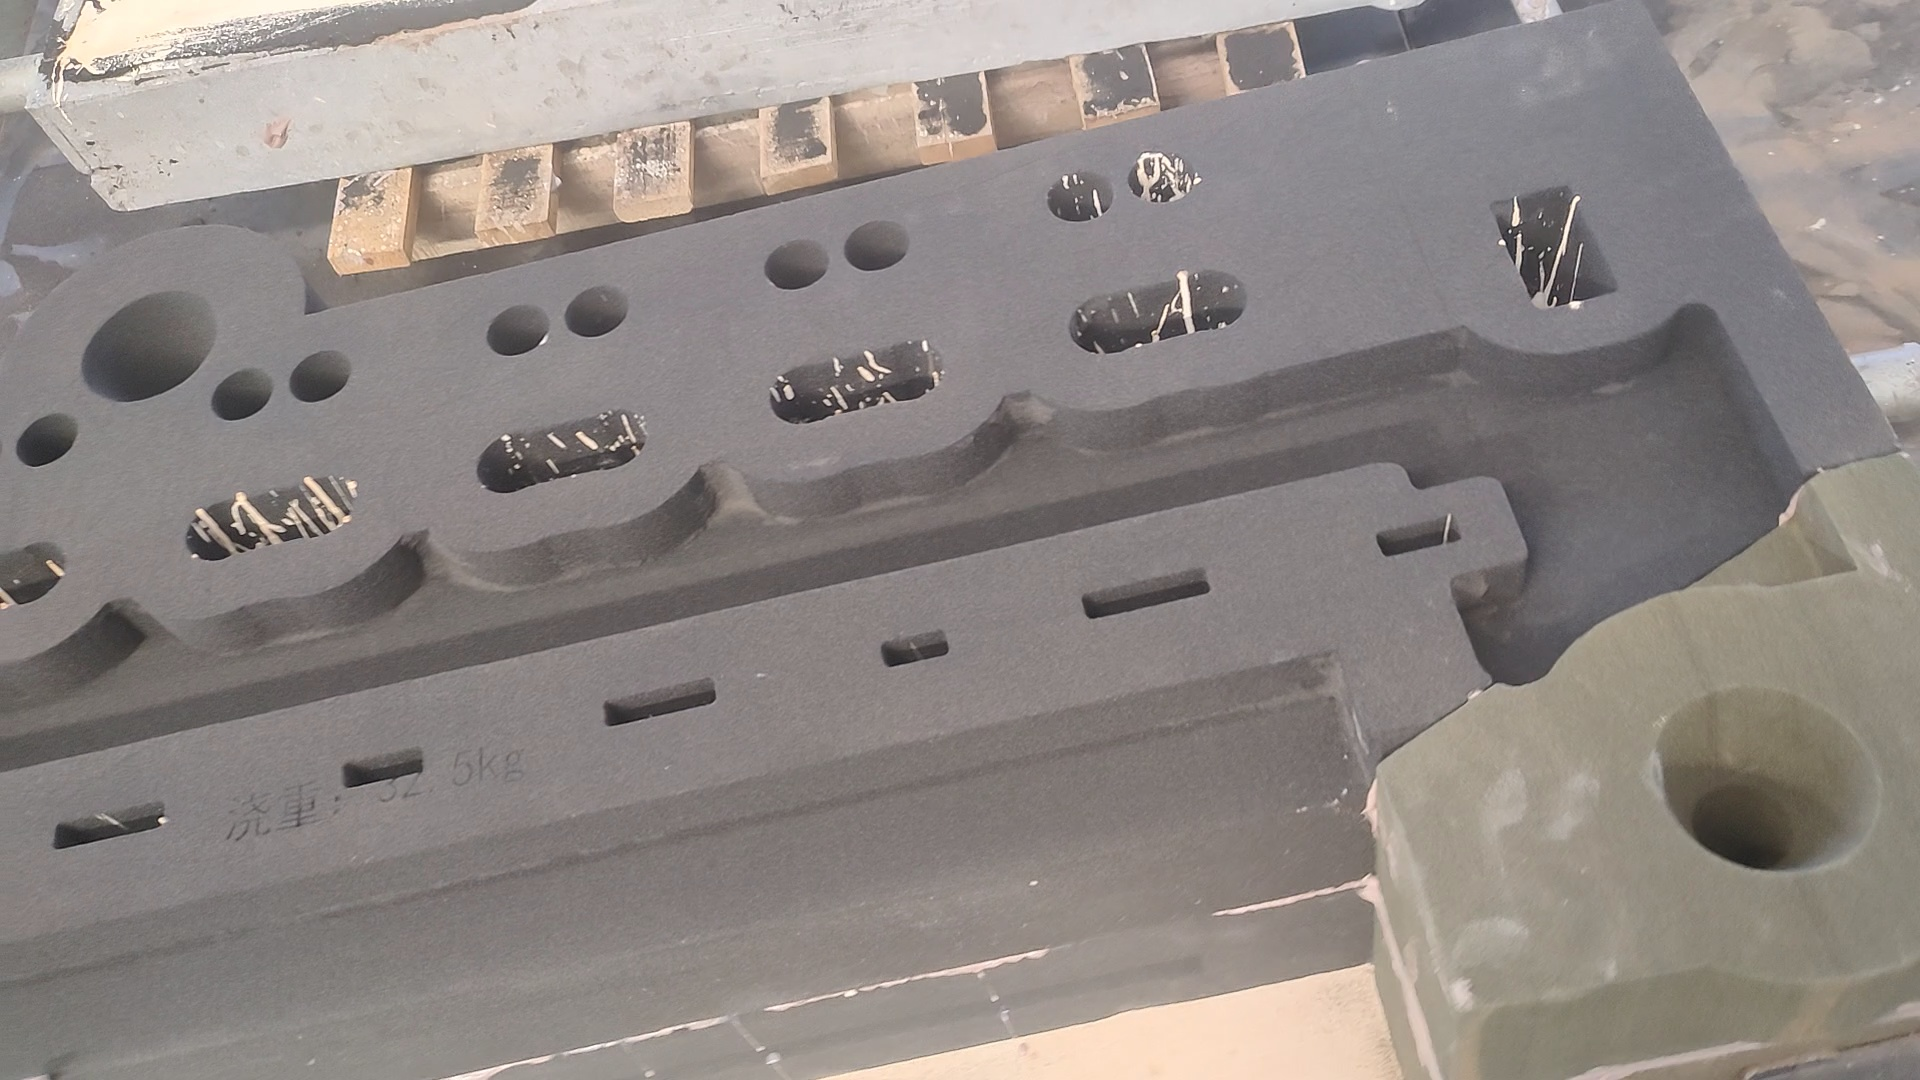pouring hole: (1654, 686, 1882, 869), (80, 290, 216, 401)
